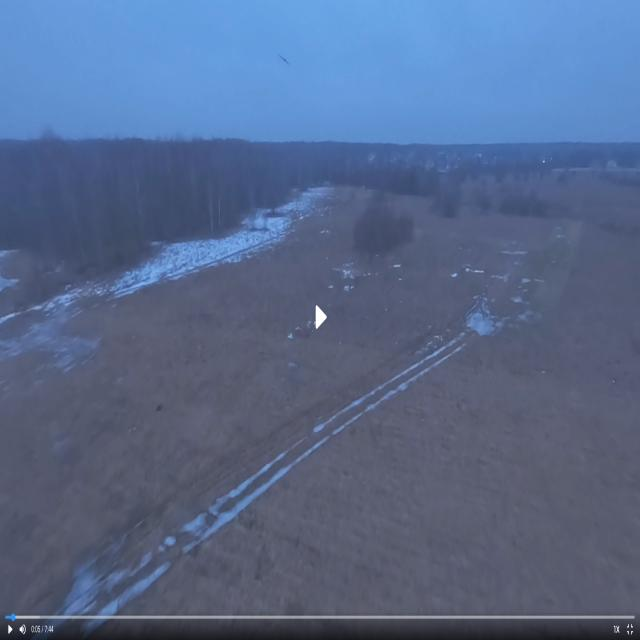planedrone: (276, 48, 295, 70)
